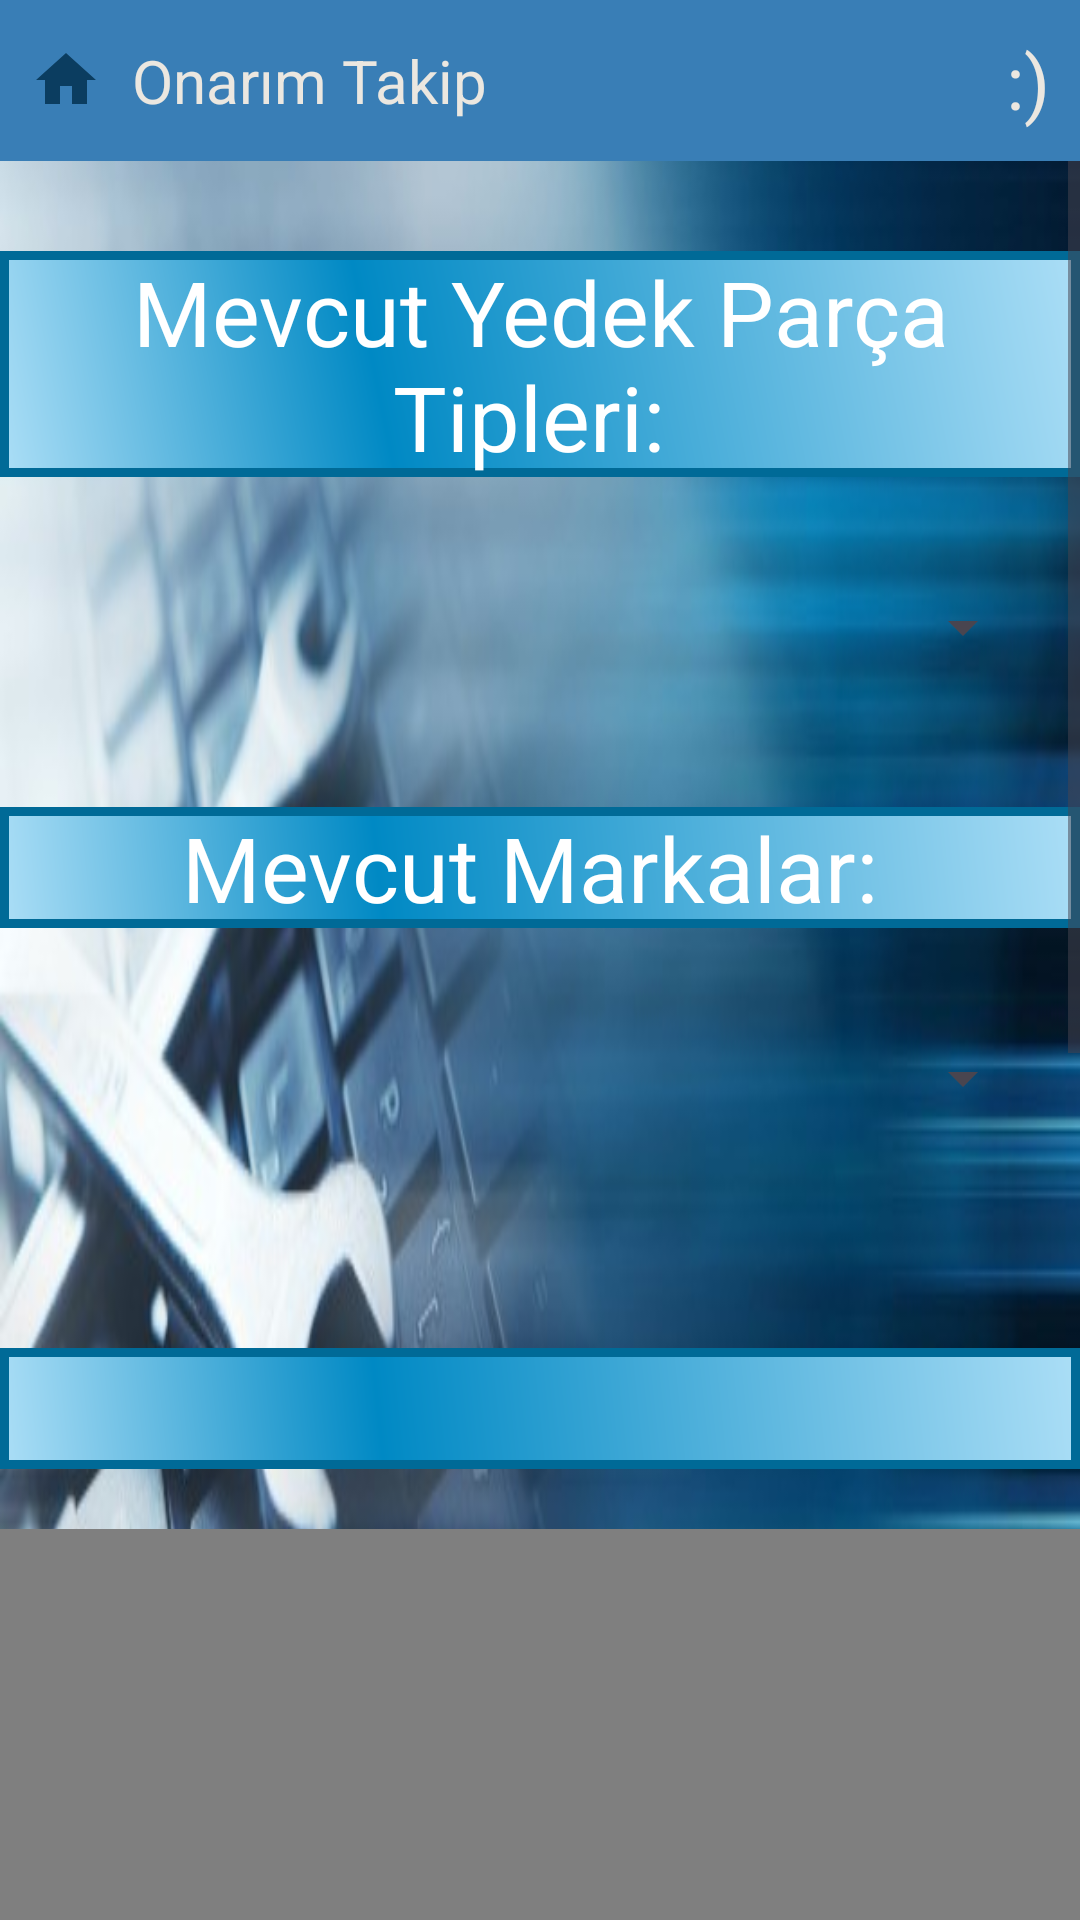

Locate icon controls on the screen. Image size 1080x1920, boxes as (x1, y1, x2, y2).
home: (36, 53, 96, 104)
